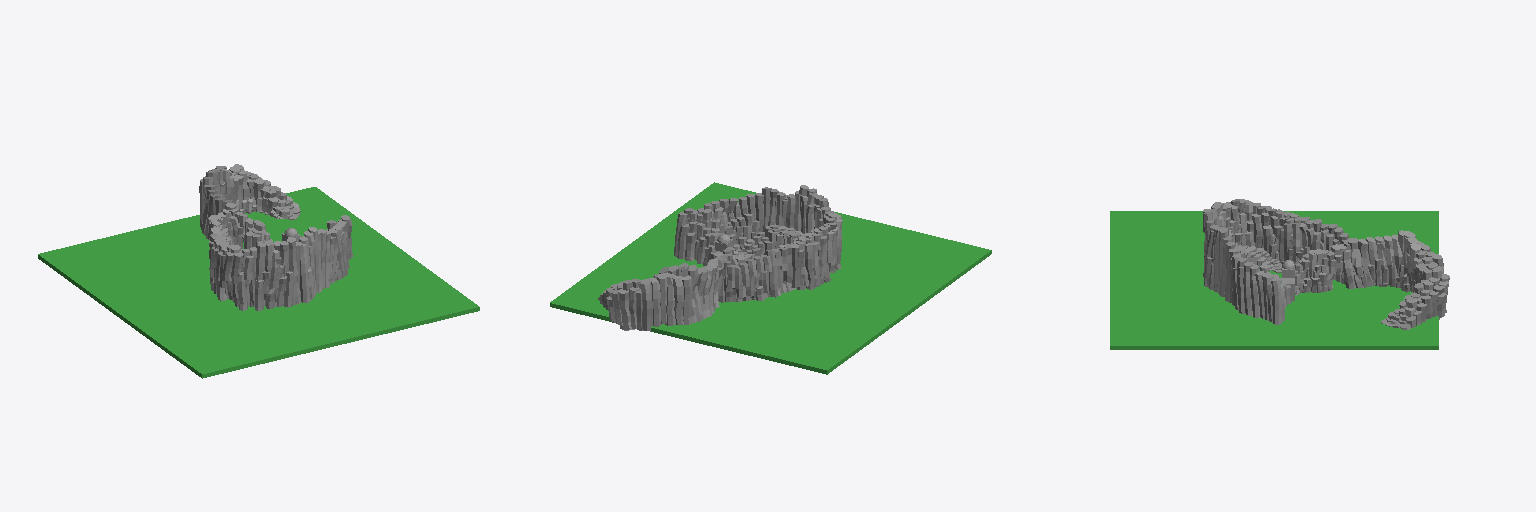
3 renders of one model, left to right at view 1: azimuth 30°, elevation 25°; view 2: azimuth 150°, elevation 25°; view 3: azimuth 270°, elevation 25°, orthographic.
Visible parts, largest first — view 1: group[number redacted]; view 2: group[number redacted], group[number redacted]; view 3: group[number redacted].
Boxes of the visible parts, box(x1,y1,x2,y2) form: group[number redacted]: box(38, 187, 479, 378); group[number redacted]: box(550, 182, 991, 374); group[number redacted]: box(641, 279, 652, 331); group[number redacted]: box(1110, 211, 1438, 349).
Size of the model in its own units: 5.6 by 1.68 by 5.94.